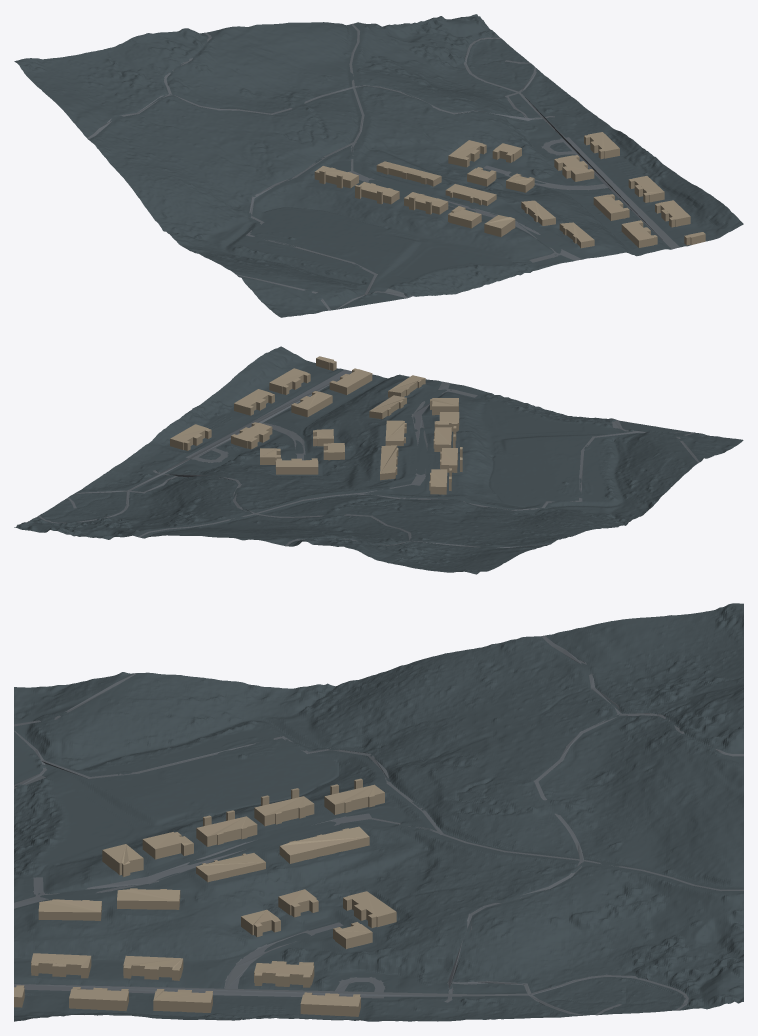
The model's file is epsg26910-1426-10893.lod0.glb.
3 renders of one model, top to bottom at view 1: azimuth 30°, elevation 25°; view 2: azimuth 150°, elevation 25°; view 3: azimuth 270°, elevation 25°, orthographic. The views are drawn at different scales.
Visible parts, largest first — view 1: epsg26910-1426-10893-lod0; view 2: epsg26910-1426-10893-lod0; view 3: epsg26910-1426-10893-lod0.
Boxes of the visible parts, x1,y1,x2,y2 form: epsg26910-1426-10893-lod0: [14, 14, 743, 317]; epsg26910-1426-10893-lod0: [14, 346, 743, 574]; epsg26910-1426-10893-lod0: [14, 603, 743, 1021].
Bounding box in the file's own units: 384 × 70.47 × 384.
